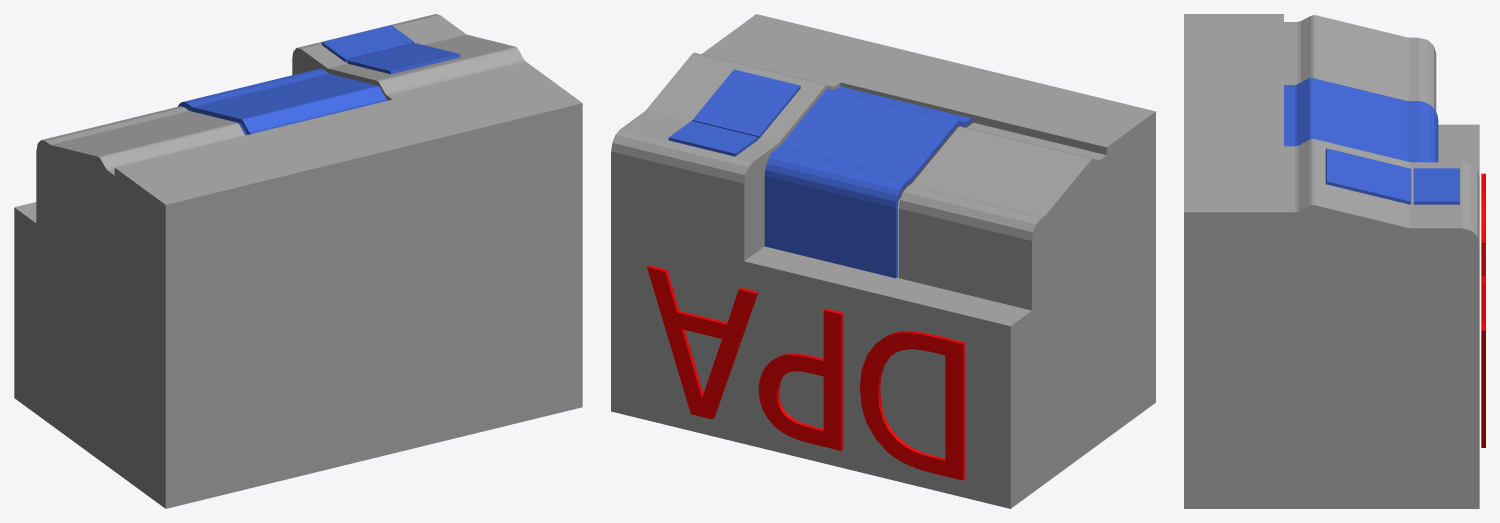
The model's file is DpaModel.dae.
3 renders of one model, left to right at view 1: azimuth 30°, elevation 25°; view 2: azimuth 150°, elevation 25°; view 3: azimuth 270°, elevation 25°, orthographic. The views are drawn at different scales.
Parts seen in each view (by area): view 1: SketchUp; view 2: SketchUp, Mesh_DPA (×3); view 3: SketchUp, Mesh_DPA.
Part boxes in pixels (box(x1,y1,x2,y2)): SketchUp: box(14, 14, 582, 508); SketchUp: box(611, 14, 1155, 508); Mesh_DPA (×3): box(647, 265, 964, 480); SketchUp: box(1184, 14, 1479, 508); Mesh_DPA: box(1481, 276, 1485, 447).
Bounding box in the file's own units: 2700 × 1736 × 1929.
